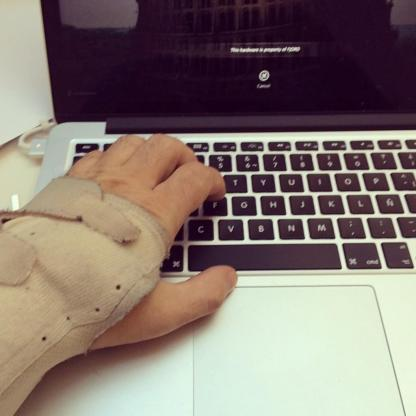board: (38, 0, 416, 415)
